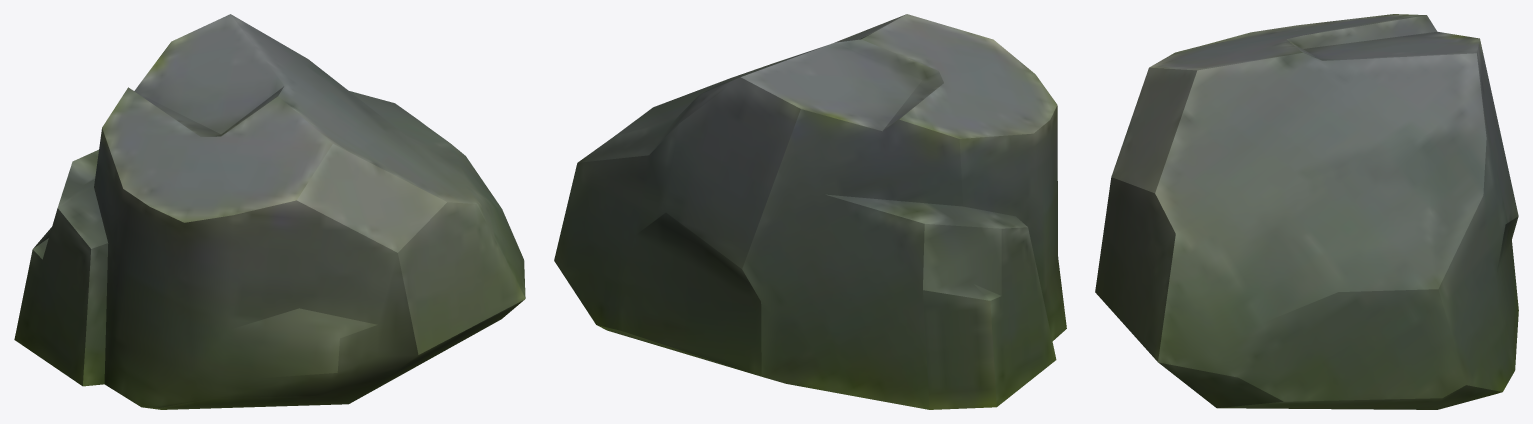
Rendered from n_rock_medium_2.glb.
The picture shows the model from 3 angles, left to right: view 1: azimuth 30°, elevation 25°; view 2: azimuth 150°, elevation 25°; view 3: azimuth 270°, elevation 25°; orthographic projection. The views are drawn at different scales.
Visible parts, largest first — view 1: Rock_Medium_2; view 2: Rock_Medium_2; view 3: Rock_Medium_2.
Boxes of the visible parts, <box> form: Rock_Medium_2: <box>14,14,525,409</box>; Rock_Medium_2: <box>554,14,1066,409</box>; Rock_Medium_2: <box>1095,14,1518,409</box>.
Size of the model in its own units: 3.05 by 1.89 by 2.48.
Materials: 1 (1 with a texture image).
